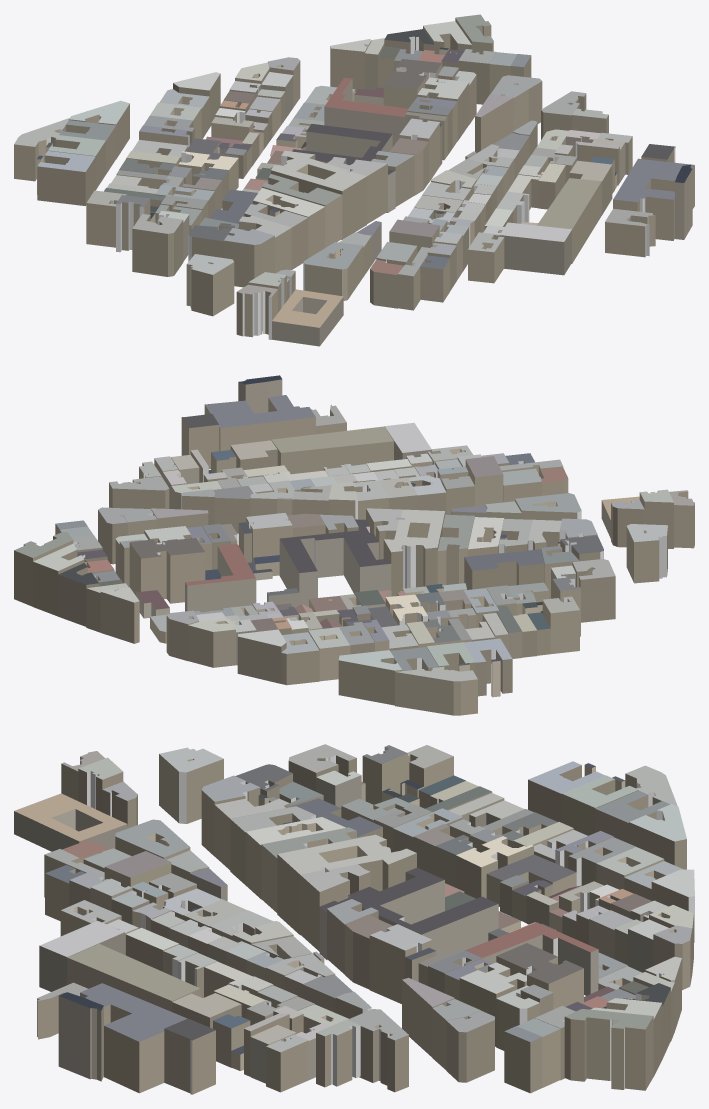
3 views of the same model, one above another, from view 1: azimuth 30°, elevation 25°; view 2: azimuth 150°, elevation 25°; view 3: azimuth 270°, elevation 25° (orthographic). The views are drawn at different scales.
Parts seen in each view (by area): view 1: tuile; view 2: tuile; view 3: tuile.
Boxes of the visible parts, x1,y1,x2,y2 form: tuile: [14, 14, 694, 346]; tuile: [14, 375, 694, 715]; tuile: [14, 744, 694, 1094].
Size of the model in its own units: 268 by 32.14 by 256.
